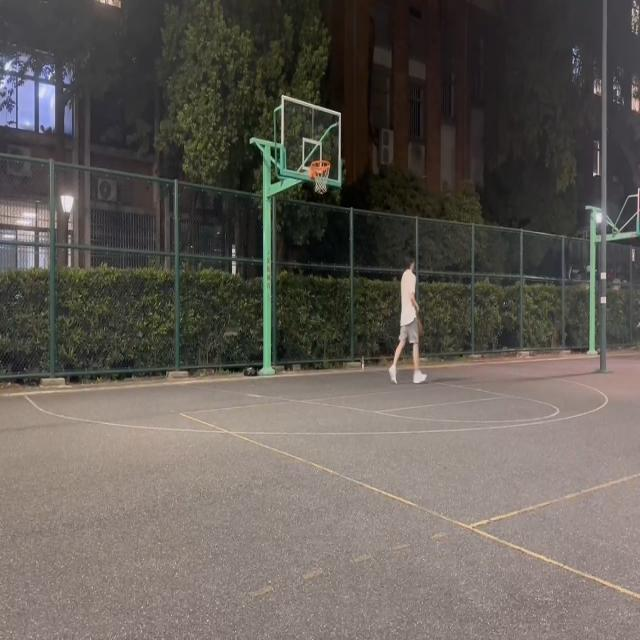basketball: (309, 160, 331, 194)
